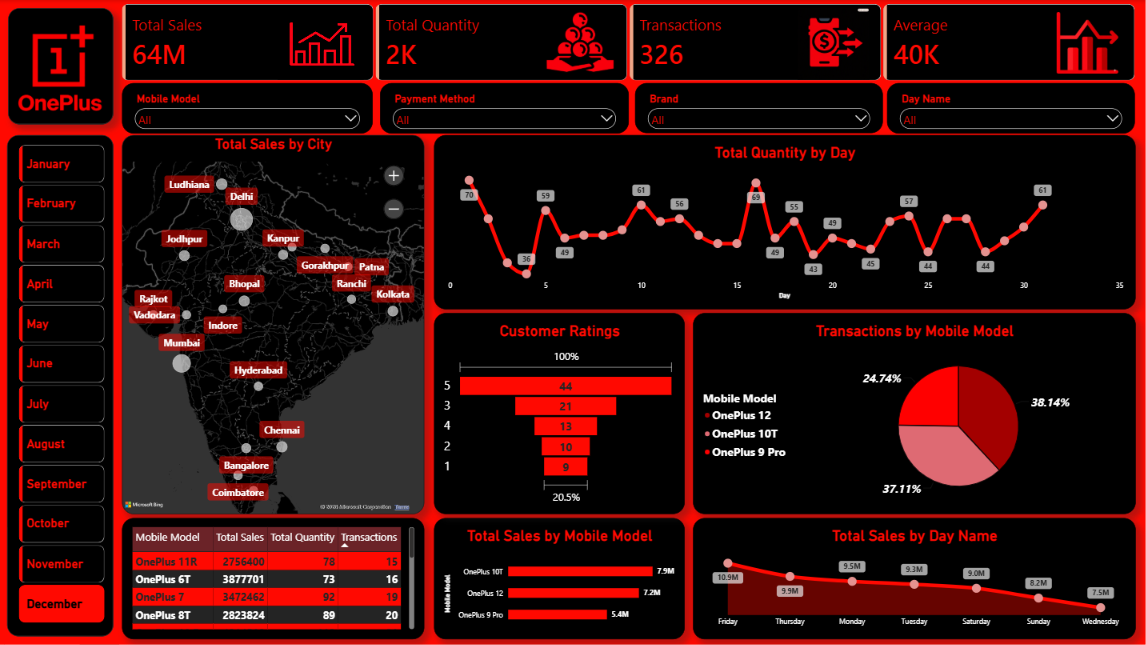

The dashboard page shown, as its layout file describes it:
{"tool":"powerbi","page":{"name":"Page 1","canvas":[1920,1080],"ordinal":0},"visuals":[{"type":"shape","box":[13.3,13.3,176.7,195],"z":0},{"type":"image","box":[11.7,13.3,176.7,198.3],"z":1000},{"type":"shape","box":[11.7,226.7,178.3,840],"z":2000},{"type":"advancedSlicerVisual","fields":{"Values":["Sales_Data.Date.Variation.Date Hierarchy.Month"]},"box":[31.8,242.9,143,809.3],"z":3000},{"type":"cardVisual","fields":{"Data":["Sales_Data.Total Sales","Sales_Data.Total Quantity","Sales_Data.Transactions","Sales_Data.Average"]},"box":[205,6.7,1696.5,128.1],"z":4000},{"type":"image","box":[465,13.3,143.3,120],"z":5000},{"type":"image","box":[908.3,11.7,128.3,120],"z":6000},{"type":"image","box":[1328.3,13.3,136.7,120],"z":7000},{"type":"image","box":[1756.7,20,128.3,103.3],"z":8000},{"type":"map","fields":{"Category":["Sales_Data.City"],"Size":["Sales_Data.Total Sales"]},"box":[205,226.7,506.7,635],"z":9000},{"type":"lineChart","fields":{"Y":["Sales_Data.Total Quantity"],"Category":["Sales_Data.Date.Variation.Date Hierarchy.Month","Sales_Data.Date.Variation.Date Hierarchy.Day"]},"box":[726.7,226.7,1175,291.7],"z":10000},{"type":"clusteredBarChart","fields":{"Category":["Sales_Data.Mobile Model"],"Y":["Sales_Data.Total Sales"]},"box":[726.7,868.3,420,203.3],"z":11000},{"type":"pieChart","fields":{"Category":["Sales_Data.Mobile Model"],"Y":["Sales_Data.Transactions"]},"box":[1160,525,741.7,336.7],"z":12000},{"type":"funnel","title":"Customer Ratings","fields":{"Category":["Sales_Data.Customer Ratings"],"Y":["CountNonNull(Sales_Data.Customer Ratings)"]},"box":[726.7,525,420,336.7],"z":13000},{"type":"areaChart","fields":{"Category":["Sales_Data.Day Name"],"Y":["Sales_Data.Total Sales"]},"box":[1160,868.3,741.7,203.3],"z":14000},{"type":"tableEx","fields":{"Values":["Sales_Data.Mobile Model","Sales_Data.Total Sales","Sales_Data.Total Quantity","Sales_Data.Transactions"]},"box":[205,868.3,506.7,203.3],"z":15000},{"type":"slicer","fields":{"Values":["Sales_Data.Mobile Model"]},"box":[205,138.3,420,85],"z":16000},{"type":"slicer","fields":{"Values":["Sales_Data.Payment Method"]},"box":[636.7,138.3,416.7,85],"z":17000},{"type":"slicer","fields":{"Values":["Sales_Data.Brand"]},"box":[1063.6,139,415.4,83.7],"z":18000},{"type":"slicer","fields":{"Values":["Sales_Data.Day Name"]},"box":[1485,138.3,415,85],"z":19000}]}

Visuals, with their boxes in screenshot pixels (x1, y1, x2, y2), scaled from the page's 1920x1080 canvas onto the 1146x645 screenshot:
shape: BBox(8, 8, 113, 124)
image: BBox(7, 8, 112, 126)
shape: BBox(7, 135, 113, 637)
advancedSlicerVisual - Sales_Data.Date.Variation.Date Hierarchy.Month: BBox(19, 145, 104, 628)
cardVisual - Sales_Data.Total Sales x Sales_Data.Total Quantity: BBox(122, 4, 1135, 81)
image: BBox(278, 8, 363, 80)
image: BBox(542, 7, 619, 79)
image: BBox(793, 8, 874, 80)
image: BBox(1049, 12, 1125, 74)
map - Sales_Data.City x Sales_Data.Total Sales: BBox(122, 135, 425, 515)
lineChart - Sales_Data.Total Quantity x Sales_Data.Date.Variation.Date Hierarchy.Month: BBox(434, 135, 1135, 310)
clusteredBarChart - Sales_Data.Mobile Model x Sales_Data.Total Sales: BBox(434, 519, 684, 640)
pieChart - Sales_Data.Mobile Model x Sales_Data.Transactions: BBox(692, 314, 1135, 515)
"Customer Ratings" funnel: BBox(434, 314, 684, 515)
areaChart - Sales_Data.Day Name x Sales_Data.Total Sales: BBox(692, 519, 1135, 640)
tableEx - Sales_Data.Mobile Model x Sales_Data.Total Sales: BBox(122, 519, 425, 640)
slicer - Sales_Data.Mobile Model: BBox(122, 83, 373, 133)
slicer - Sales_Data.Payment Method: BBox(380, 83, 629, 133)
slicer - Sales_Data.Brand: BBox(635, 83, 883, 133)
slicer - Sales_Data.Day Name: BBox(886, 83, 1134, 133)
